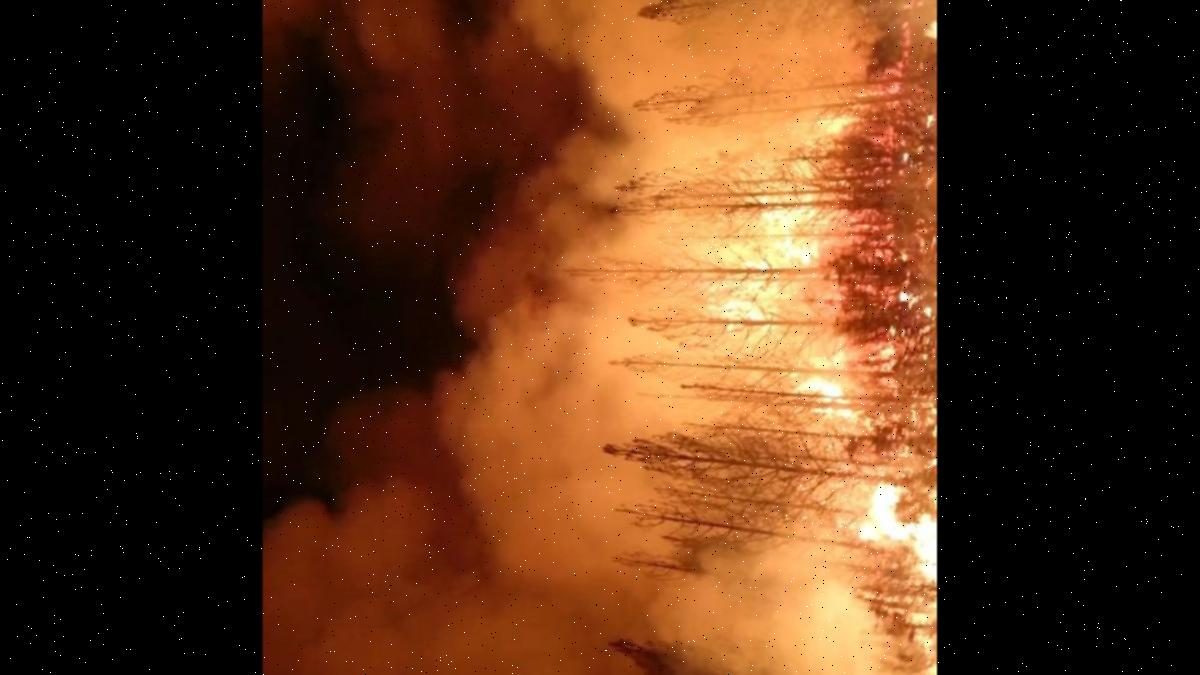fire: (560, 0, 938, 675)
